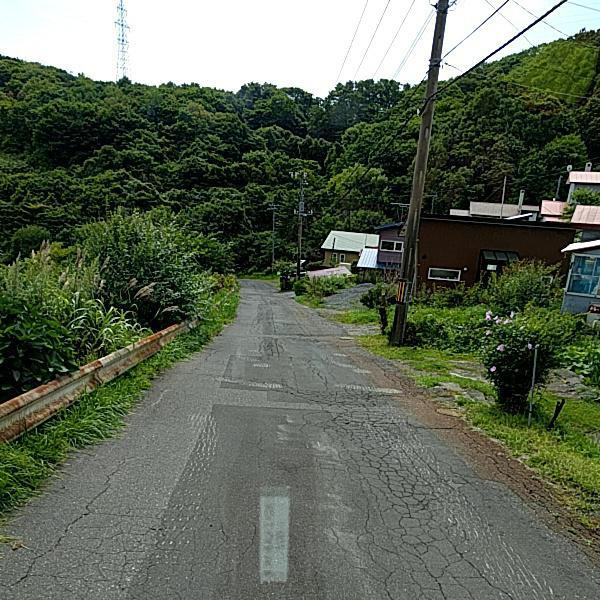D20: (283, 370, 565, 592), (0, 442, 218, 595)
